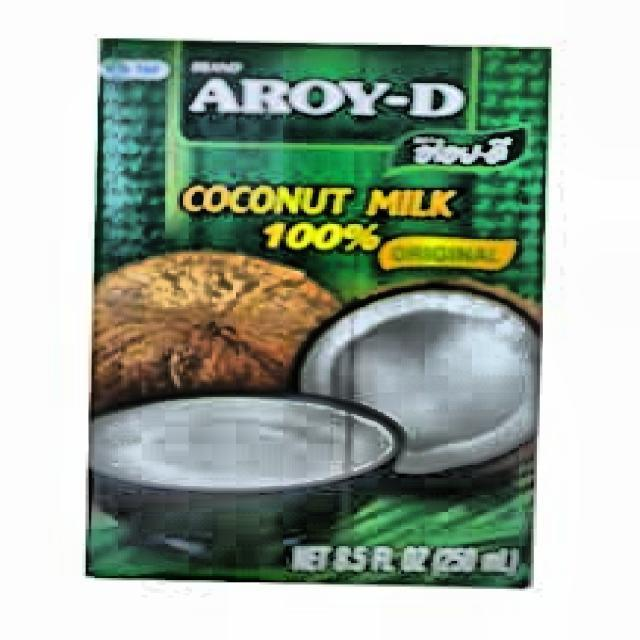cardboard: (86, 36, 548, 587)
